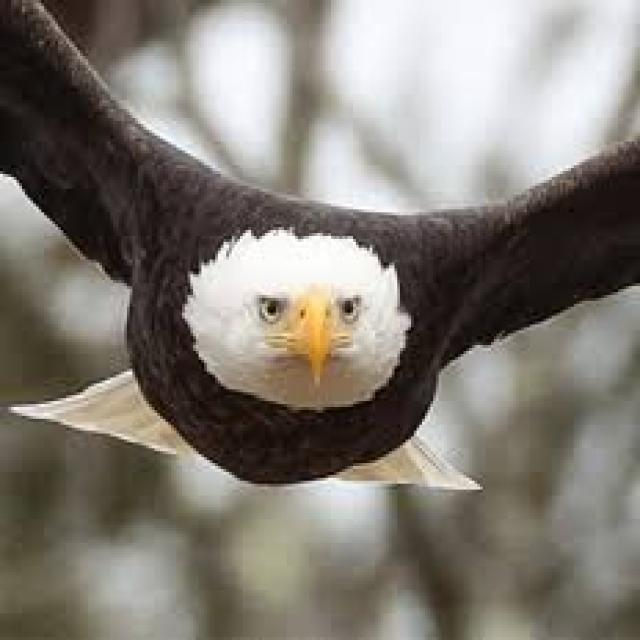Eagle: (3, 0, 640, 488)
